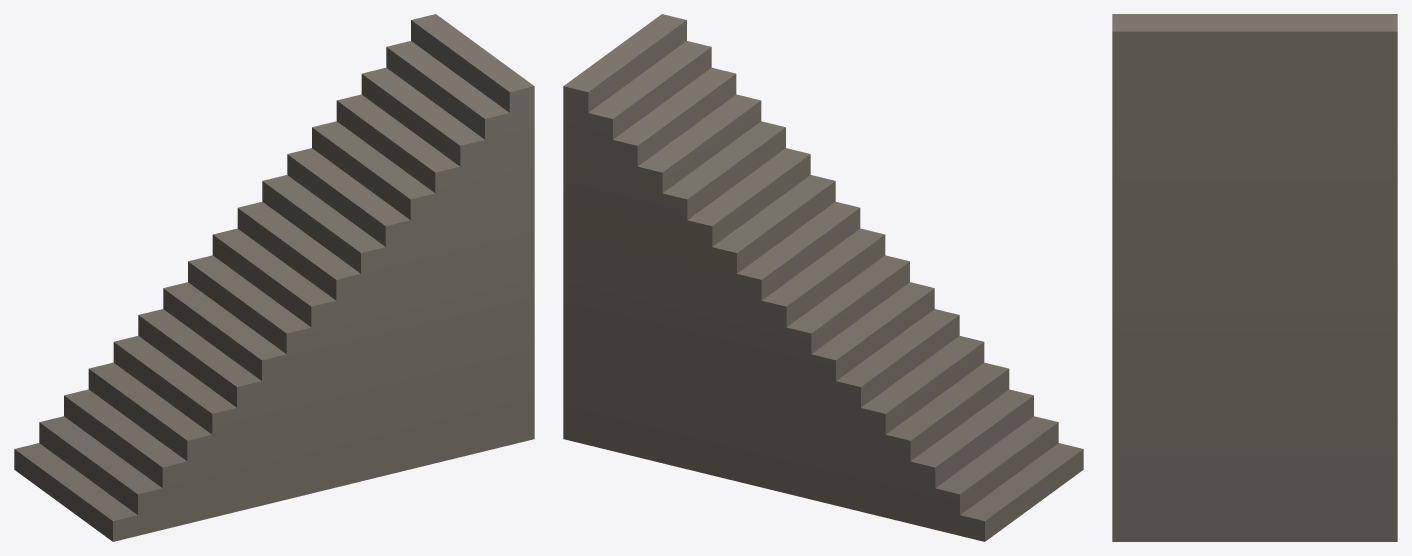
The model's file is Stairs_C_1_3.fbx.
The picture shows the model from 3 angles, left to right: view 1: azimuth 30°, elevation 25°; view 2: azimuth 150°, elevation 25°; view 3: azimuth 270°, elevation 25°; orthographic projection. The views are drawn at different scales.
Visible parts, largest first — view 1: Stairs_C_1_3; view 2: Stairs_C_1_3; view 3: Stairs_C_1_3.
Boxes of the visible parts, x1,y1,x2,y2 form: Stairs_C_1_3: (14, 14, 534, 541); Stairs_C_1_3: (563, 14, 1083, 541); Stairs_C_1_3: (1112, 14, 1397, 541).
Bounding box in the file's own units: 340 × 272 × 138.
